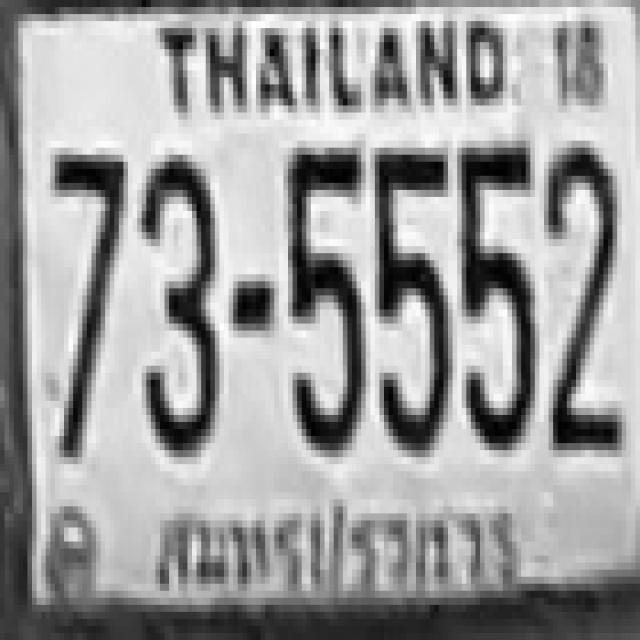2: (546, 141, 615, 443), (544, 137, 613, 419)
3: (137, 148, 215, 450)
5: (370, 141, 448, 450), (284, 141, 361, 450), (457, 141, 530, 443)
7: (50, 151, 124, 454)
SamutPrakan: (151, 486, 518, 604)
